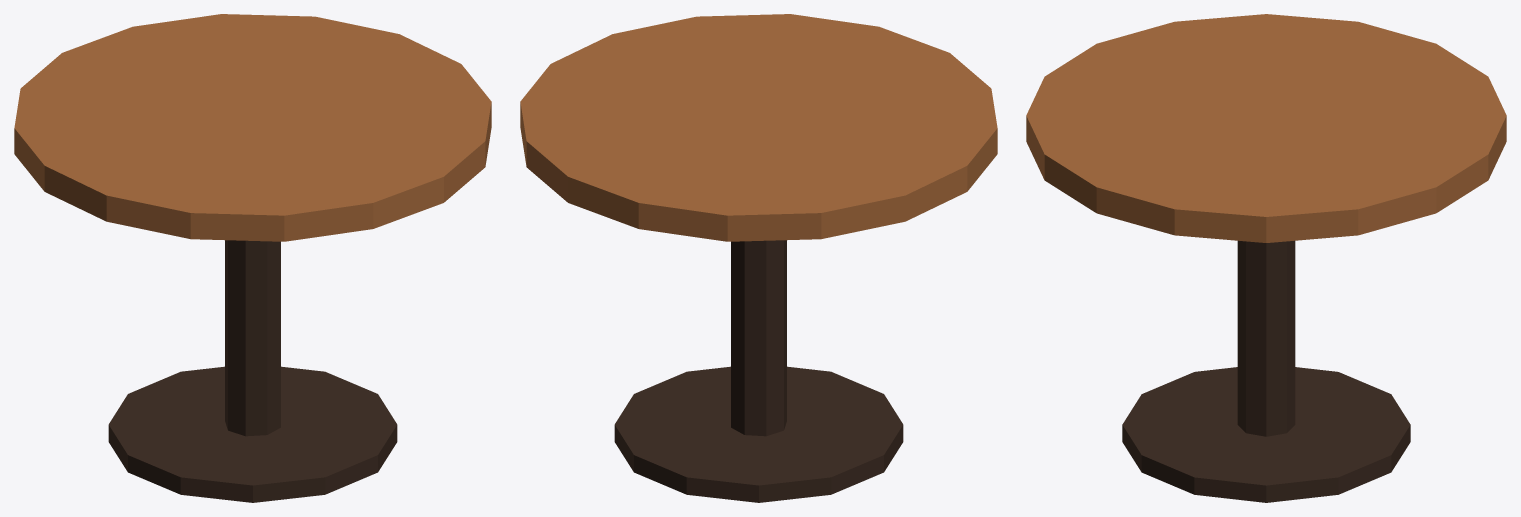
The model's file is int_mejaBulat.fbx.
The picture shows the model from 3 angles, left to right: view 1: azimuth 30°, elevation 25°; view 2: azimuth 150°, elevation 25°; view 3: azimuth 270°, elevation 25°; orthographic projection.
Parts seen in each view (by area): view 1: int_mejaBulat; view 2: int_mejaBulat; view 3: int_mejaBulat.
Boxes of the visible parts, x1,y1,x2,y2 form: int_mejaBulat: [14, 14, 491, 502]; int_mejaBulat: [520, 14, 997, 502]; int_mejaBulat: [1026, 14, 1506, 502].
Size of the model in its own units: 100 by 75 by 100.
Materials: 1 (1 with a texture image).
